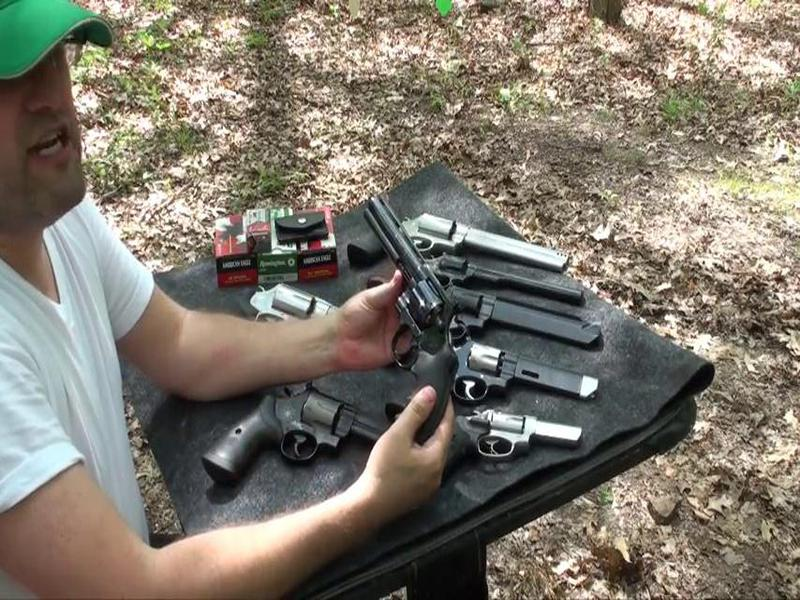Revolver: (357, 187, 478, 464)
